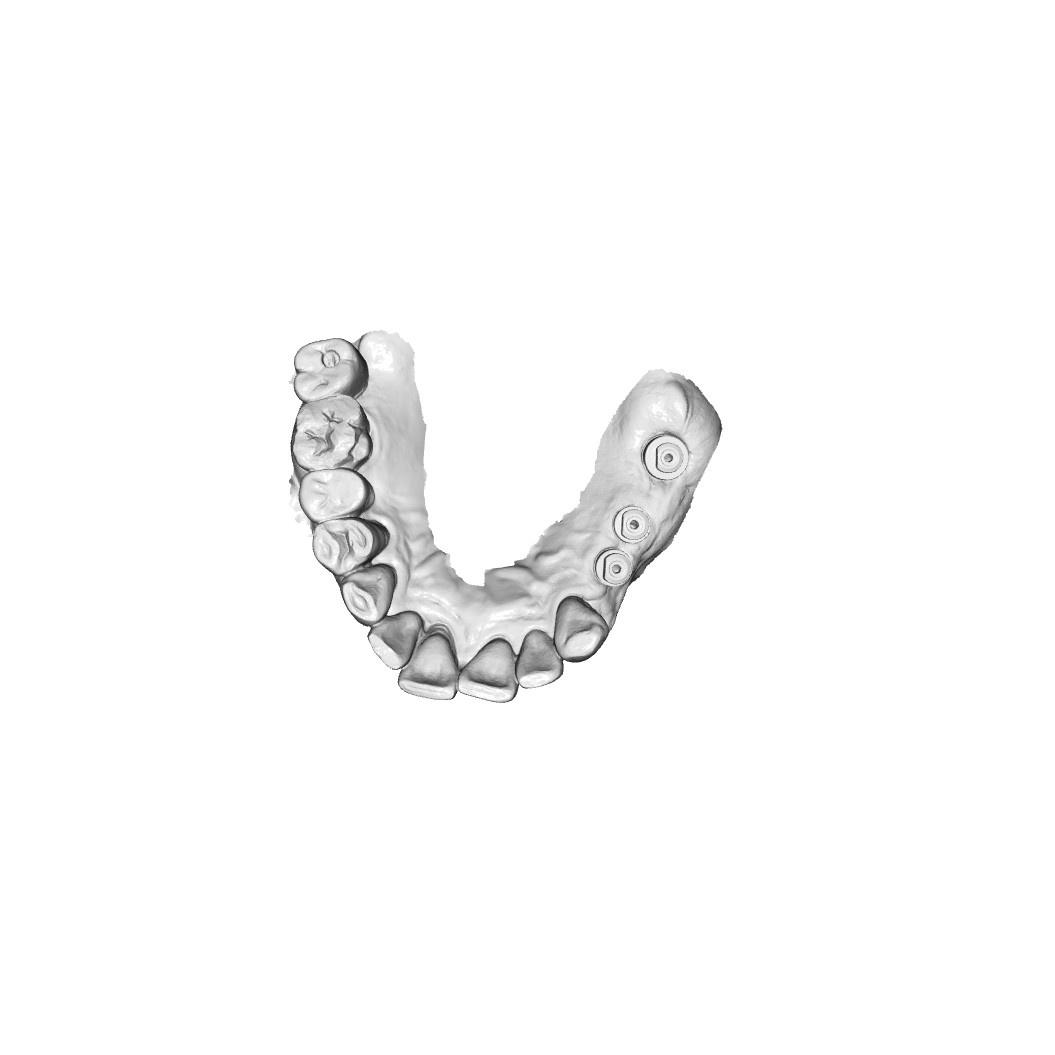canine: (553, 596, 610, 663), (340, 562, 395, 625)
implant: (640, 433, 688, 479), (596, 547, 637, 596), (610, 503, 655, 541)
incisor: (397, 634, 460, 702), (454, 641, 522, 701), (368, 612, 423, 670), (514, 632, 566, 690)
molar: (289, 394, 376, 474), (289, 337, 371, 403)
premolar: (313, 514, 383, 579), (298, 467, 373, 524)
